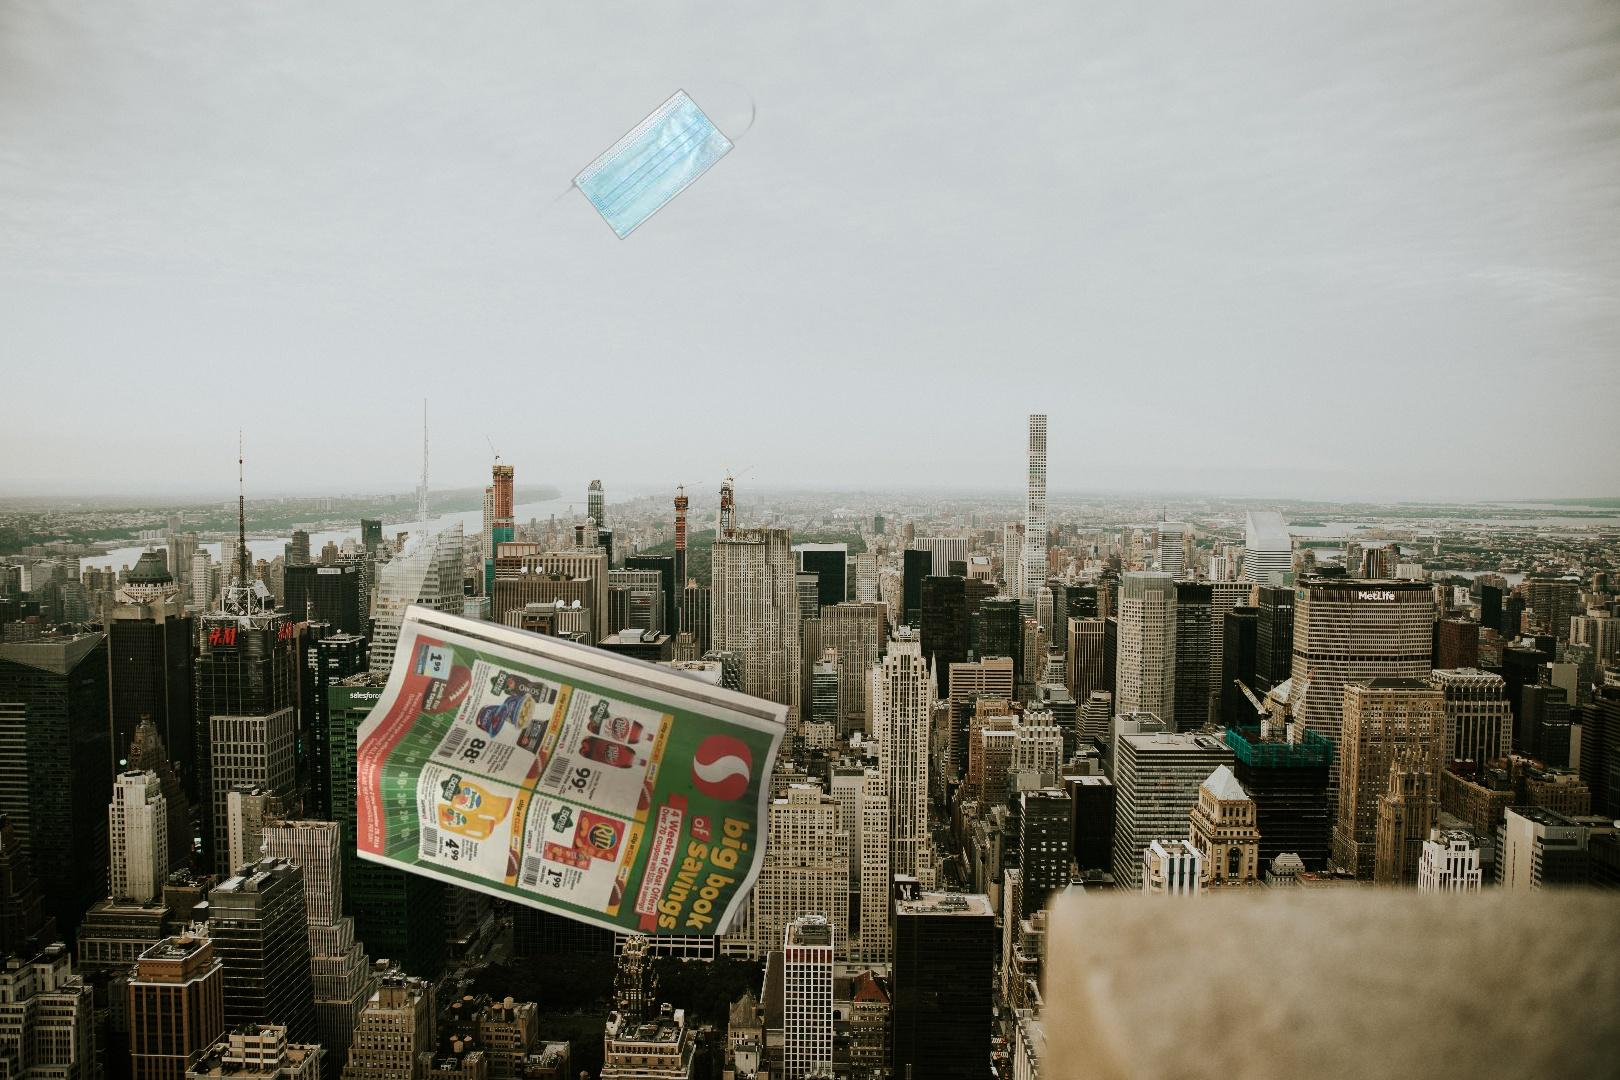paper: (357, 600, 796, 935)
trash: (535, 81, 758, 242)
